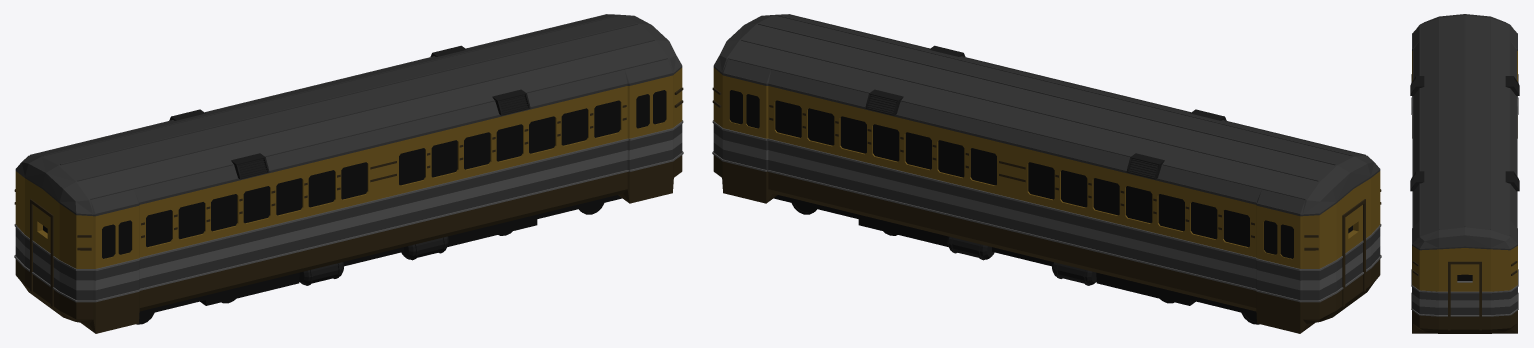
The model's file is cargo-train-wagon.glb.
The picture shows the model from 3 angles, left to right: view 1: azimuth 30°, elevation 25°; view 2: azimuth 150°, elevation 25°; view 3: azimuth 270°, elevation 25°; orthographic projection. The views are drawn at different scales.
Visible parts, largest first — view 1: CargoTrain_Wagon; view 2: CargoTrain_Wagon; view 3: CargoTrain_Wagon.
Boxes of the visible parts, x1,y1,x2,y2 form: CargoTrain_Wagon: (14,14,683,333); CargoTrain_Wagon: (712,14,1381,333); CargoTrain_Wagon: (1410,14,1519,333).
Bounding box in the file's own units: 1025 × 262 × 210.
